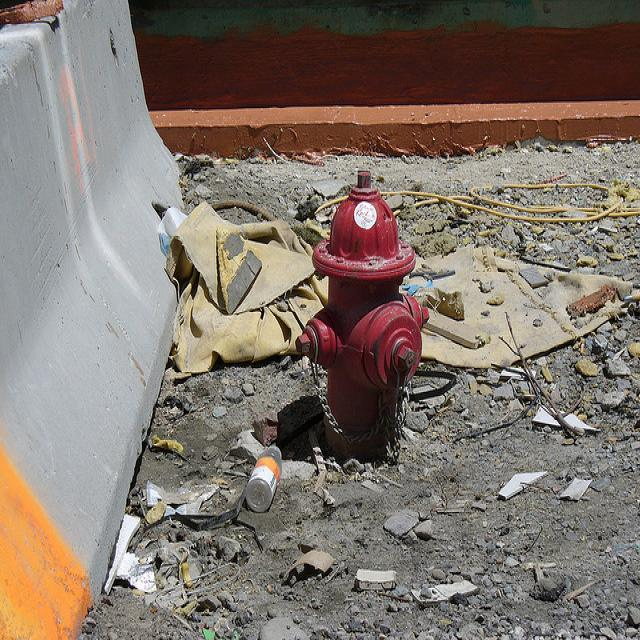fire_hydrant: (295, 170, 429, 460)
